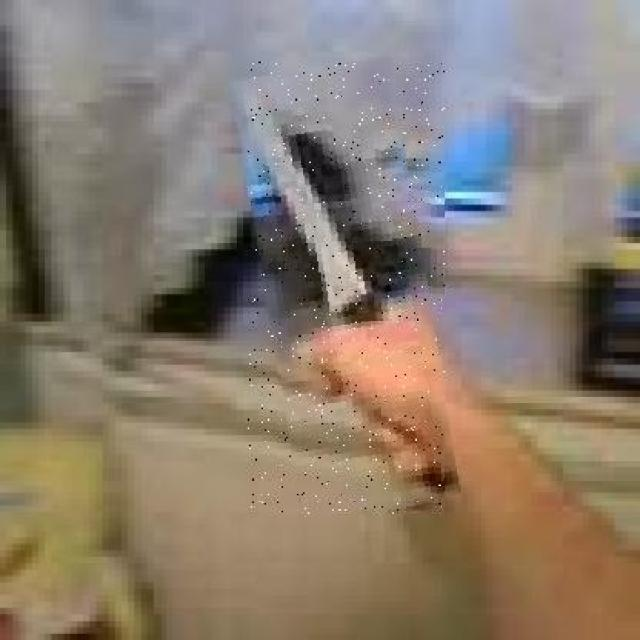knife: (248, 61, 444, 514)
